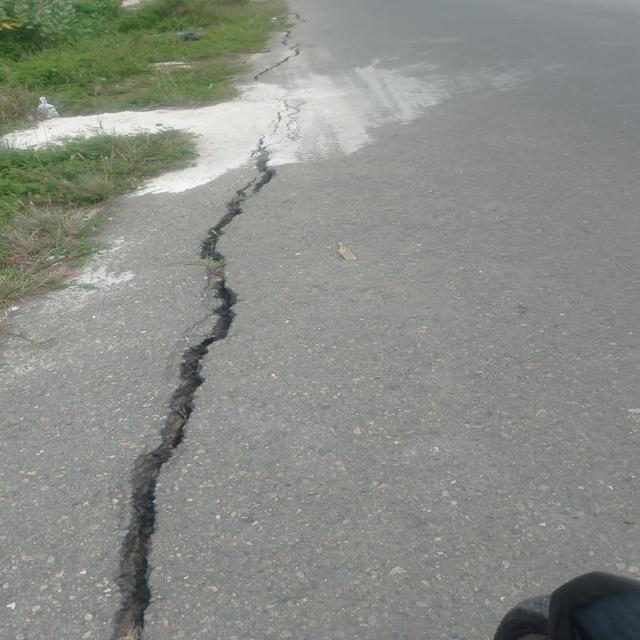Memanjang: (105, 126, 295, 640)
